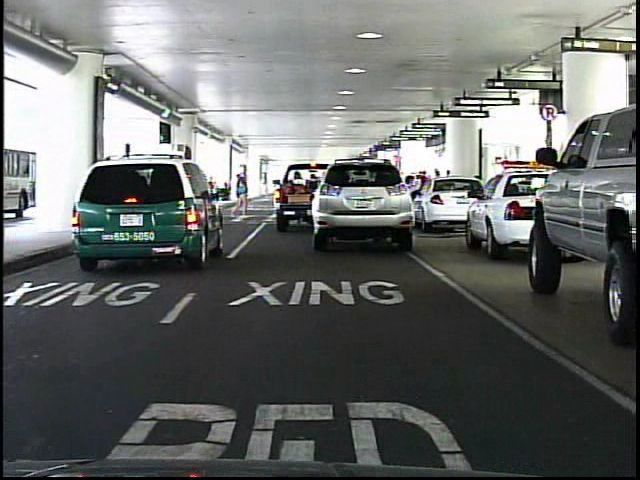person: (232, 168, 255, 222)
